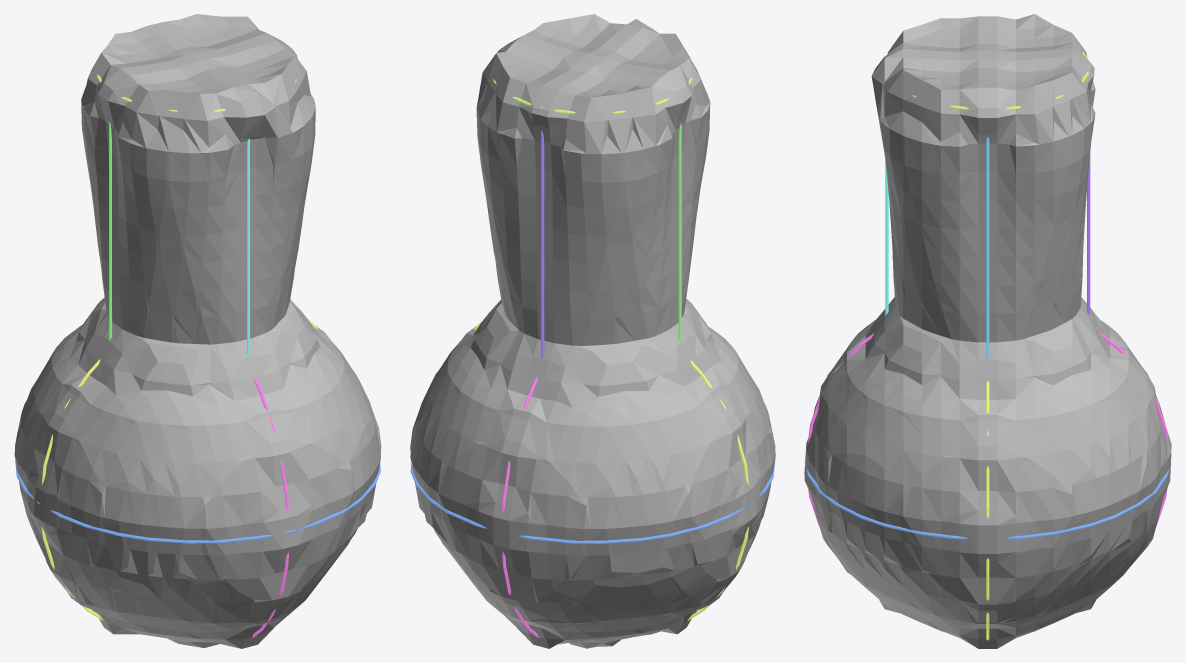
The model's file is flowrep_spherecylinder.gltf.
3 views of the same model, side by side, from view 1: azimuth 30°, elevation 25°; view 2: azimuth 150°, elevation 25°; view 3: azimuth 270°, elevation 25° (orthographic).
Bounding box in the file's own units: 0.4575 × 0.809 × 0.4576.
